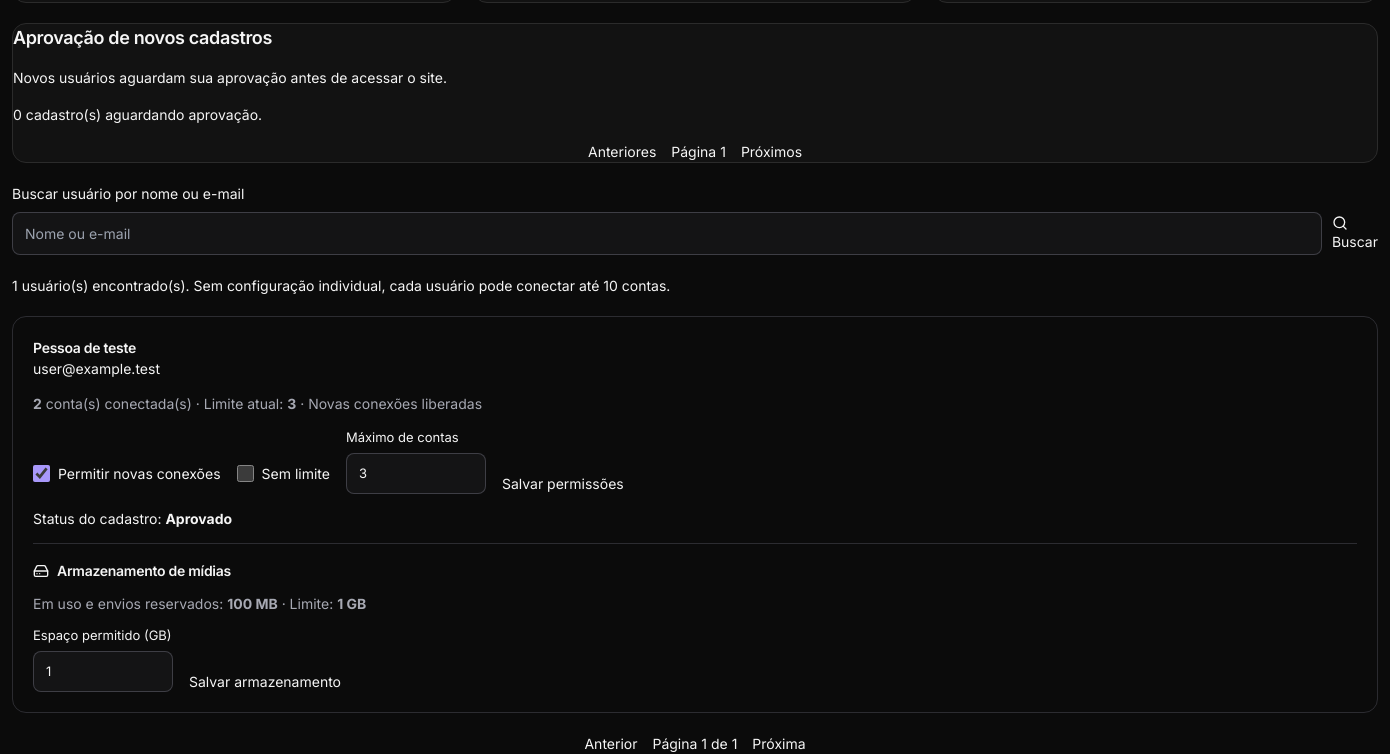
administrative permissions panel › saves a storage upgrade separately from connection permissions
The image size is (1390, 754).
(page scrolled)
Expected: the text "100 MB" is shown, top-left (227, 595), bottom-right (278, 612)
Replace the text in the number field labelled "Espaço permitido (GB)" with "2.5" at (103, 671), box top-left (33, 651), bottom-right (173, 692)
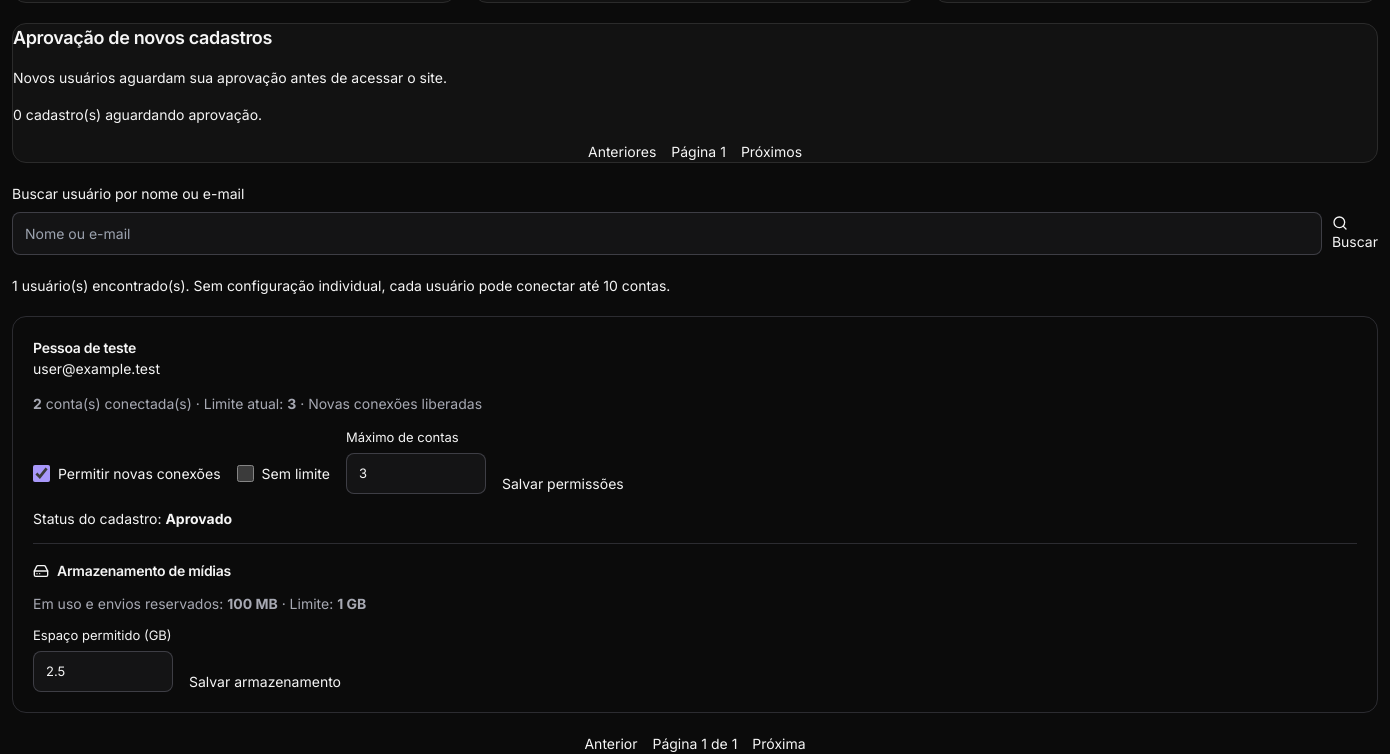
Click the button "Salvar armazenamento".
click(265, 682)  # box top-left (189, 671), bottom-right (341, 692)
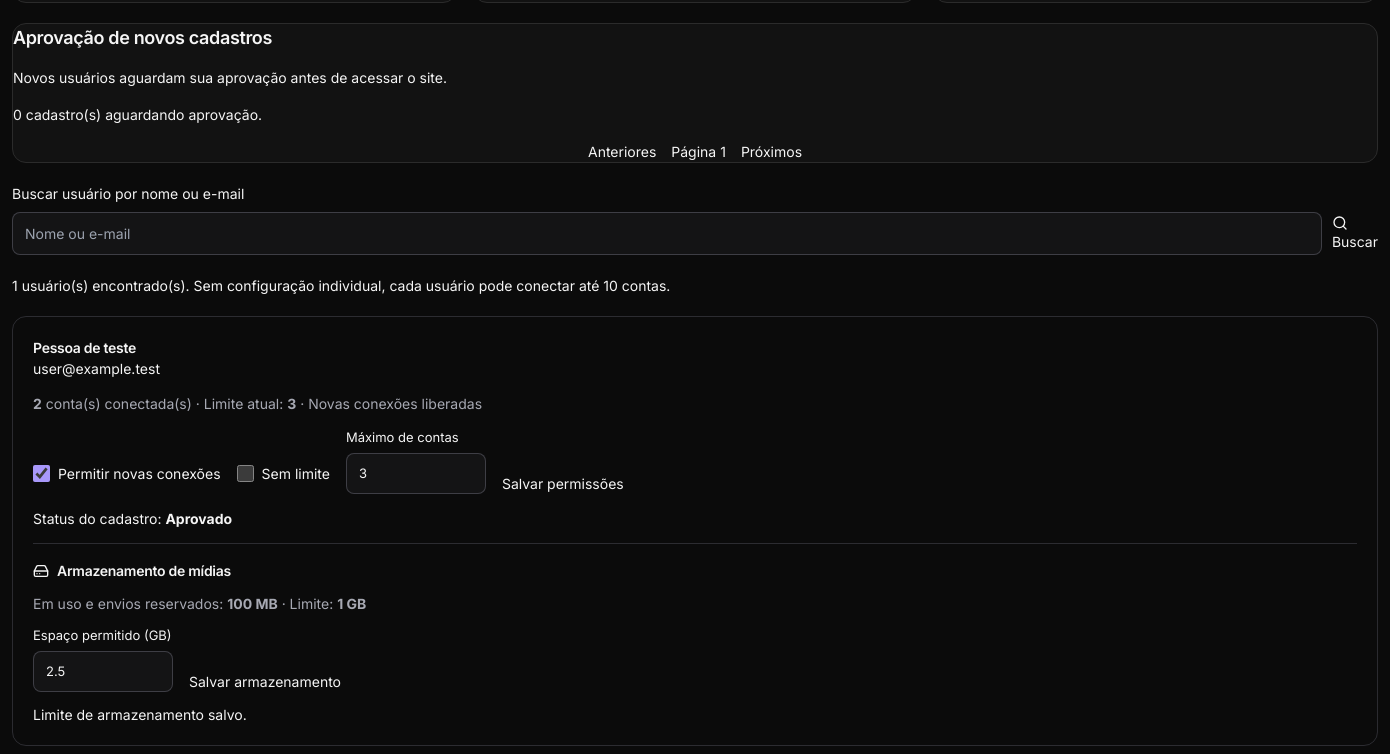
Result: the text "Limite de armazenamento salvo." is shown at top-left (33, 706), bottom-right (247, 723)
